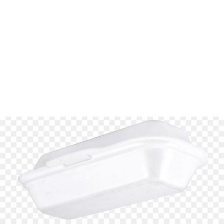foam_box: (11, 115, 215, 224)
